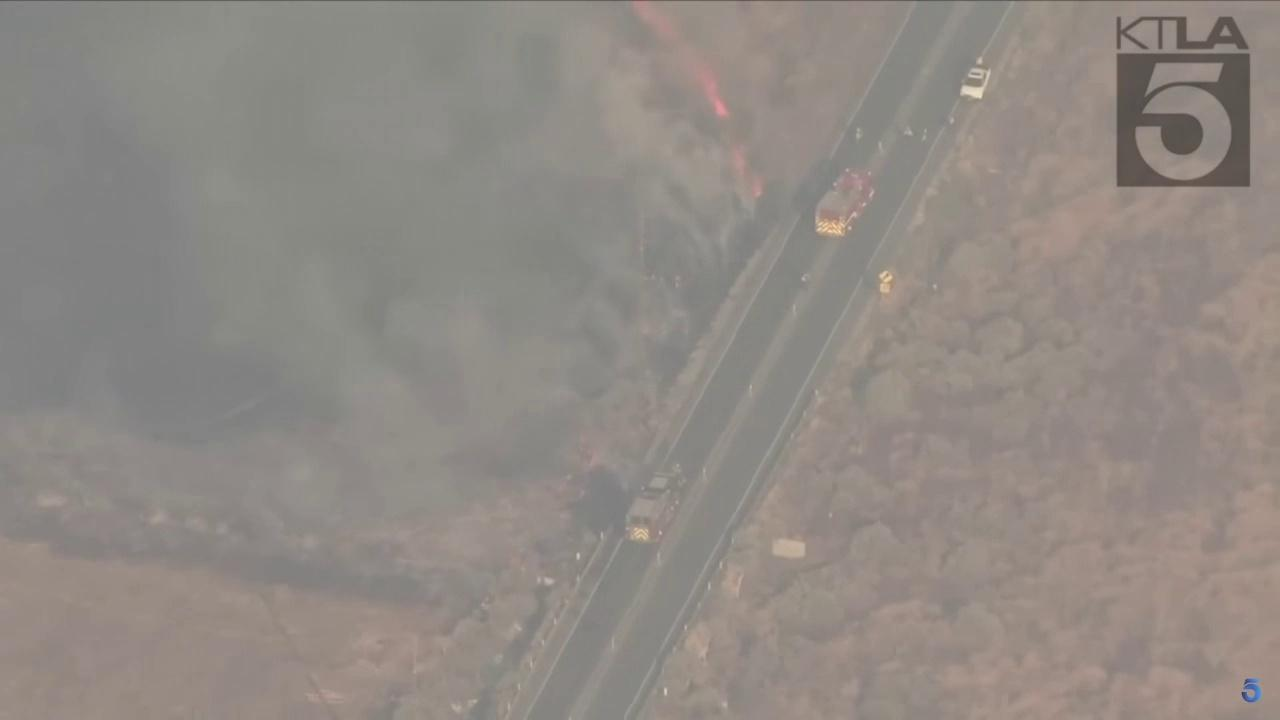fire: (627, 0, 732, 117), (732, 141, 747, 178), (751, 173, 764, 200)
smoke: (0, 0, 787, 517)
